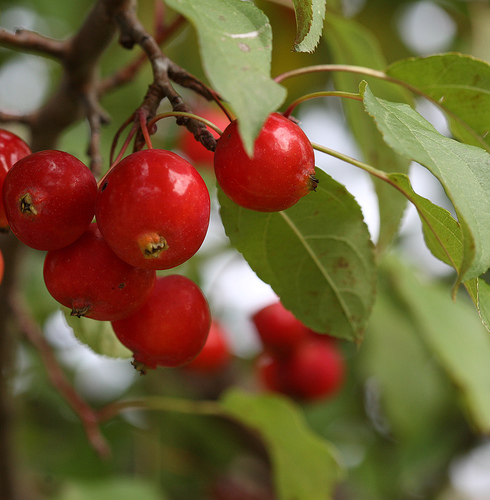apple: (84, 145, 217, 270), (211, 109, 321, 216), (1, 143, 109, 249)
